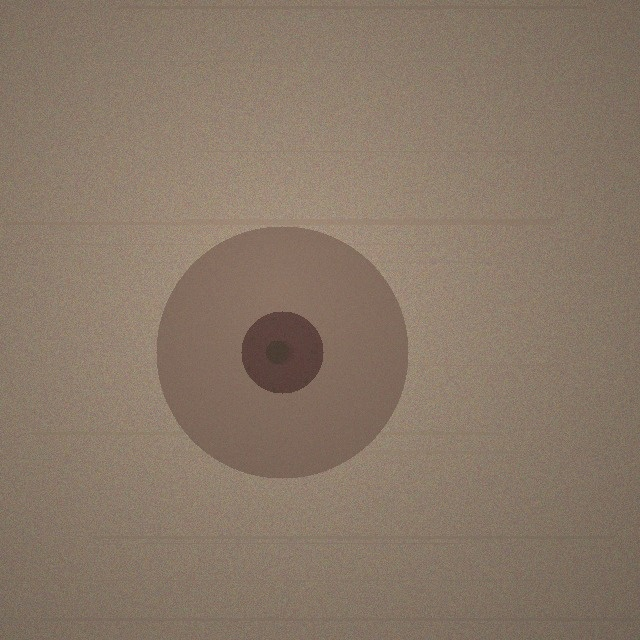cold_weld: (156, 226, 408, 478)
